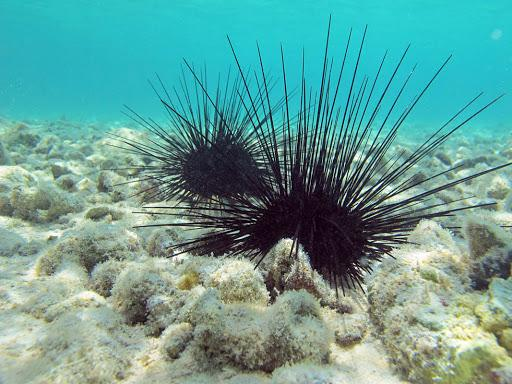urchin: (224, 12, 504, 297), (108, 61, 299, 210)
